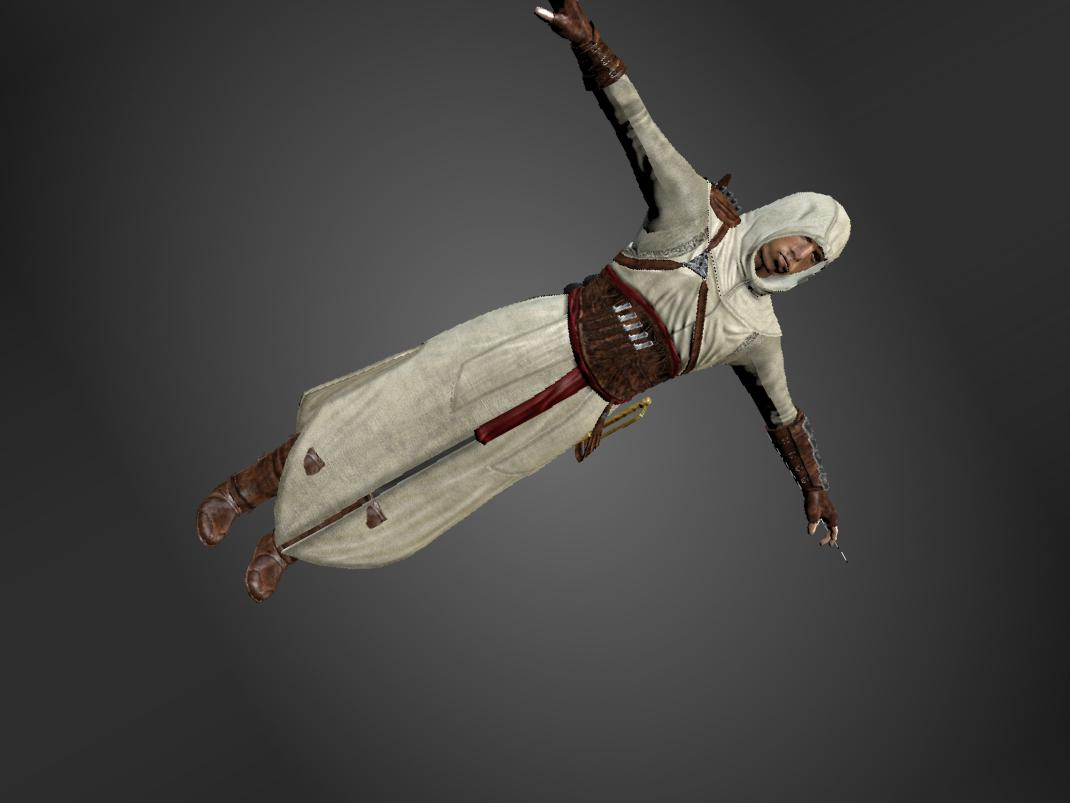clip: (300, 446, 330, 477), (368, 501, 391, 531)
